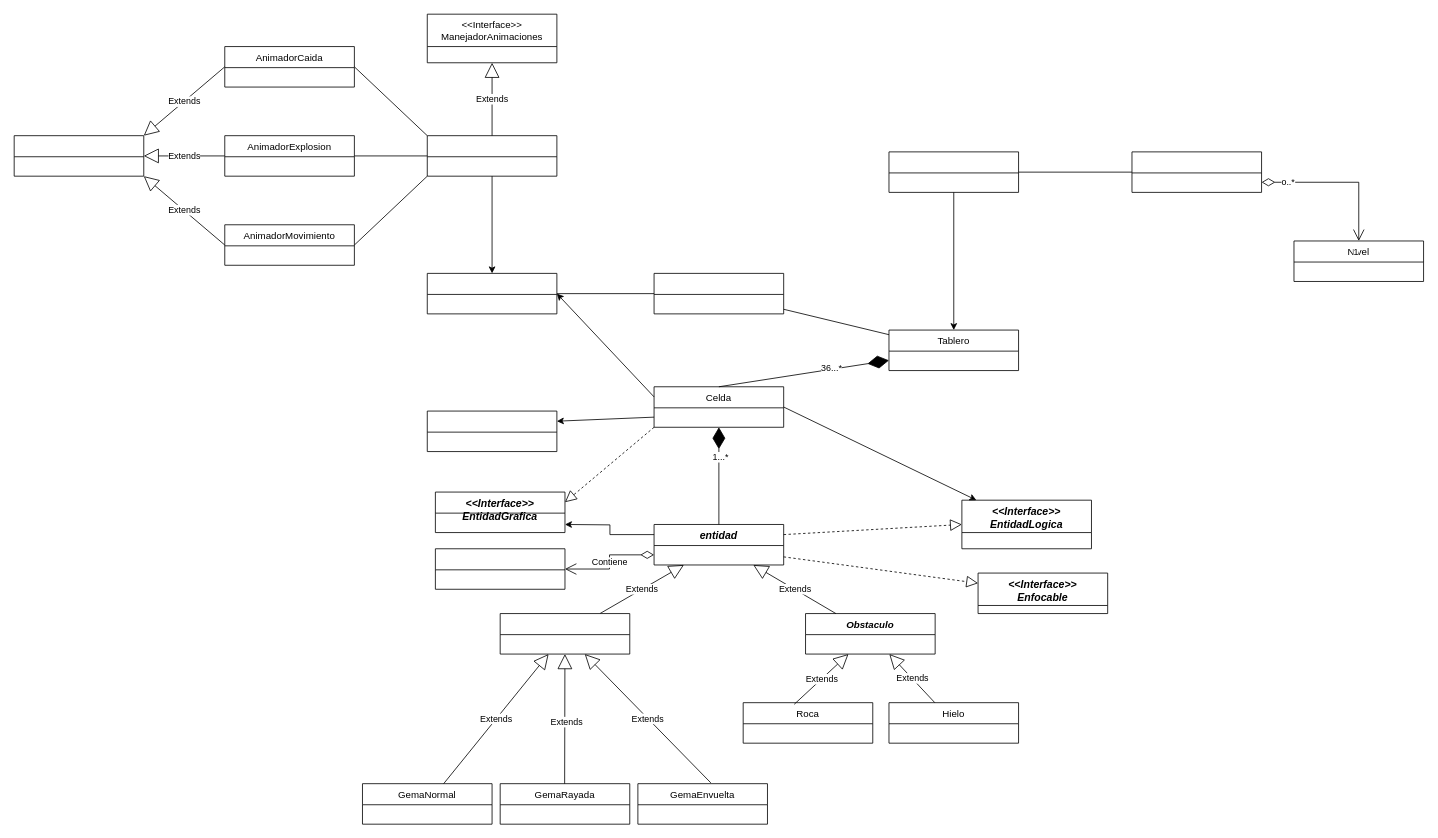
Image size: 1438x838. Some labels were removed from this diagram. Each missing label, with the box of its shape:
AnimadordeIntercambios: (13, 135, 144, 176)
CentralAnimaciones: (426, 135, 557, 176)
Color: (435, 548, 565, 589)
Gemas: (499, 613, 630, 654)
GeneradorNivel: (888, 151, 1019, 192)
GUI: (426, 273, 557, 314)
JLabel: (426, 410, 557, 452)
Logica: (653, 273, 784, 314)
Objetivos: (1131, 151, 1262, 192)
